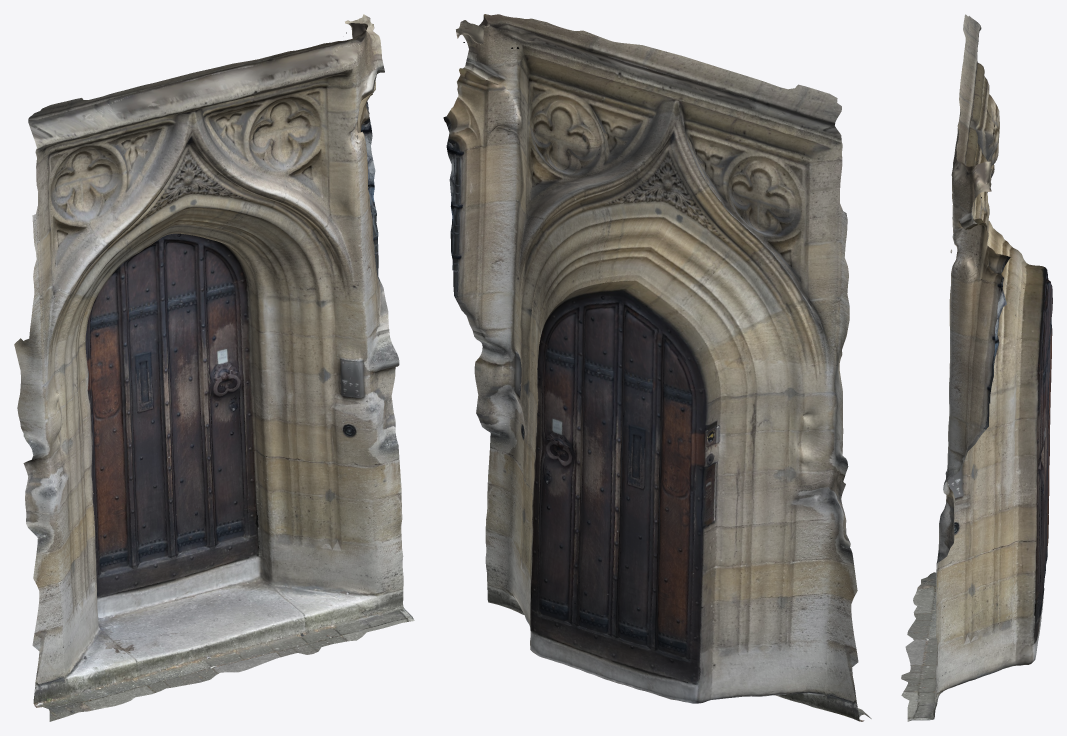
Rendered from oxford.glb.
3 renders of one model, left to right at view 1: azimuth 30°, elevation 25°; view 2: azimuth 150°, elevation 25°; view 3: azimuth 270°, elevation 25°, orthographic. The views are drawn at different scales.
Visible parts, largest first — view 1: Model; view 2: Model; view 3: Model.
Boxes of the visible parts, <box> form: Model: <box>14,14,414,721</box>; Model: <box>443,14,871,721</box>; Model: <box>901,14,1052,721</box>.
Bounding box in the file's own units: 5.5 × 8.61 × 2.07.
1 material, 1 textured.
